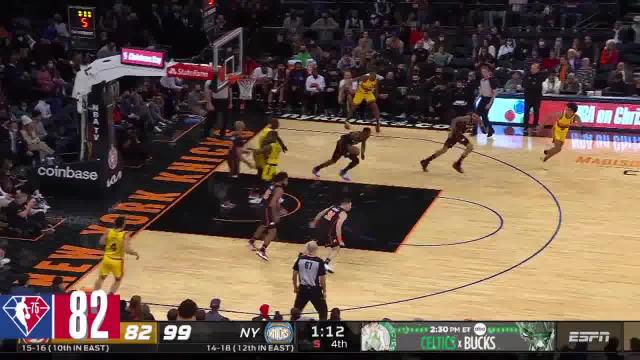ball-handler: (310, 126, 372, 182)
player: (417, 106, 490, 176), (304, 192, 354, 274), (247, 170, 290, 258), (98, 217, 139, 298), (537, 97, 581, 168), (342, 67, 386, 134), (221, 119, 249, 208), (254, 116, 281, 181)
